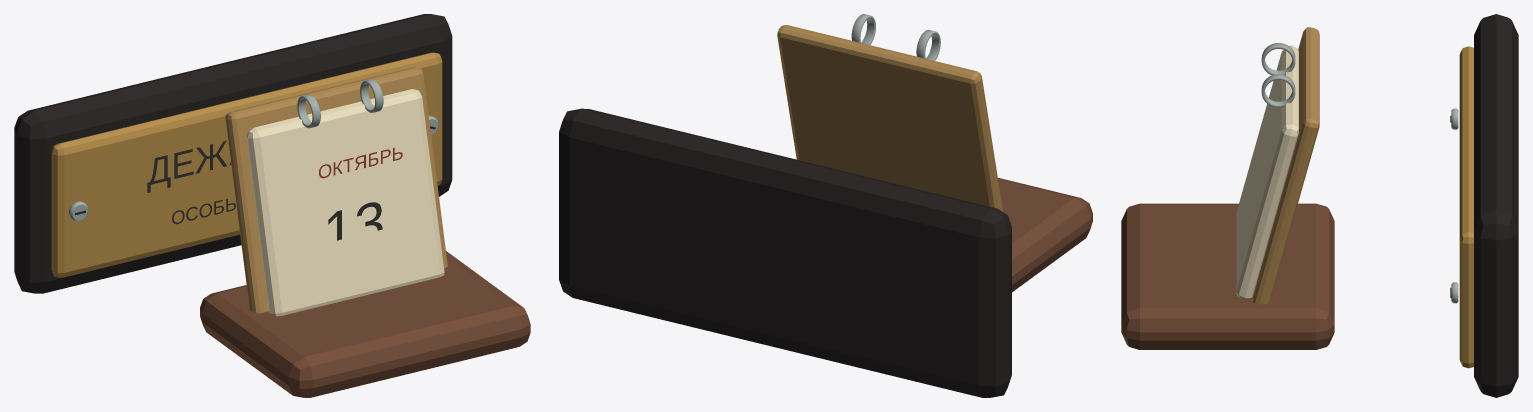
Rendered from OfficeDecorSet.fbx.
3 views of the same model, side by side, from view 1: azimuth 30°, elevation 25°; view 2: azimuth 150°, elevation 25°; view 3: azimuth 270°, elevation 25° (orthographic). The views are drawn at different scales.
Parts seen in each view (by area): view 1: Calendar leaf stack, Brass plate, Door plaque, Calendar plinth, Calendar folded backing, Label.058, Binding ring, Binding ring.001, Label 13, Label.060; view 2: Door plaque, Calendar folded backing, Calendar plinth, Binding ring, Binding ring.001; view 3: Calendar plinth, Door plaque, Calendar leaf stack, Calendar folded backing, Brass plate, Binding ring.001, Binding ring.
Part boxes in pixels (<box>): Calendar leaf stack: <box>247,89,444,316</box>; Brass plate: <box>51,52,442,277</box>; Door plaque: <box>14,14,452,293</box>; Calendar plinth: <box>200,251,530,397</box>; Calendar folded backing: <box>225,67,447,313</box>; Label.058: <box>147,140,231,192</box>; Binding ring: <box>297,94,320,128</box>; Binding ring.001: <box>360,79,383,112</box>; Label 13: <box>328,202,382,240</box>; Label.060: <box>319,147,402,178</box>; Door plaque: <box>559,108,1011,397</box>; Calendar folded backing: <box>777,25,1002,211</box>; Calendar plinth: <box>998,177,1092,292</box>; Binding ring: <box>916,30,940,60</box>; Binding ring.001: <box>851,14,875,44</box>; Calendar plinth: <box>1121,203,1334,349</box>; Door plaque: <box>1474,14,1518,397</box>; Calendar leaf stack: <box>1236,45,1298,298</box>; Calendar folded backing: <box>1253,27,1319,304</box>; Brass plate: <box>1459,46,1473,368</box>; Binding ring.001: <box>1261,74,1295,107</box>; Binding ring: <box>1261,43,1295,75</box>.
Bounding box in the file's own units: 0.332 × 0.172 × 0.259.
